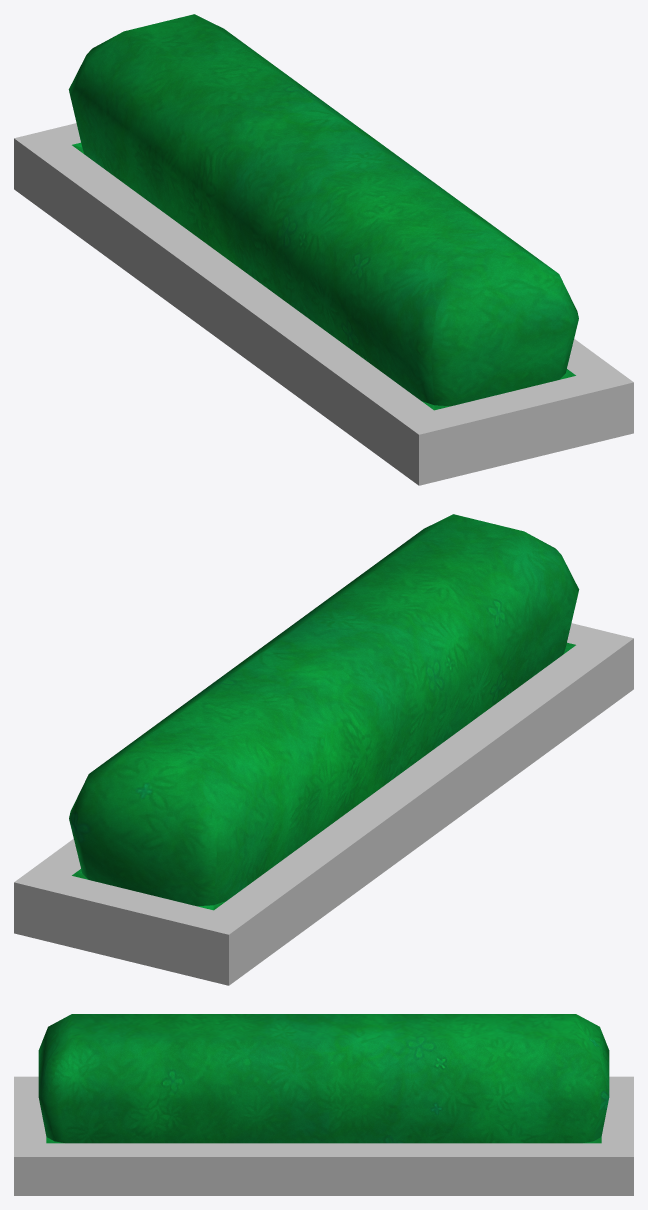
Rendered from Plant01_c04.FBX.
3 renders of one model, top to bottom at view 1: azimuth 30°, elevation 25°; view 2: azimuth 150°, elevation 25°; view 3: azimuth 270°, elevation 25°, orthographic. The views are drawn at different scales.
Visible parts, largest first — view 1: Plant01_c04; view 2: Plant01_c04; view 3: Plant01_c04.
Part boxes in pixels (left/top/right/bottom): Plant01_c04: left=14, top=14, right=633, bottom=485; Plant01_c04: left=14, top=514, right=633, bottom=985; Plant01_c04: left=14, top=1014, right=633, bottom=1195.
Size of the model in its own units: 208 by 155 by 678.
